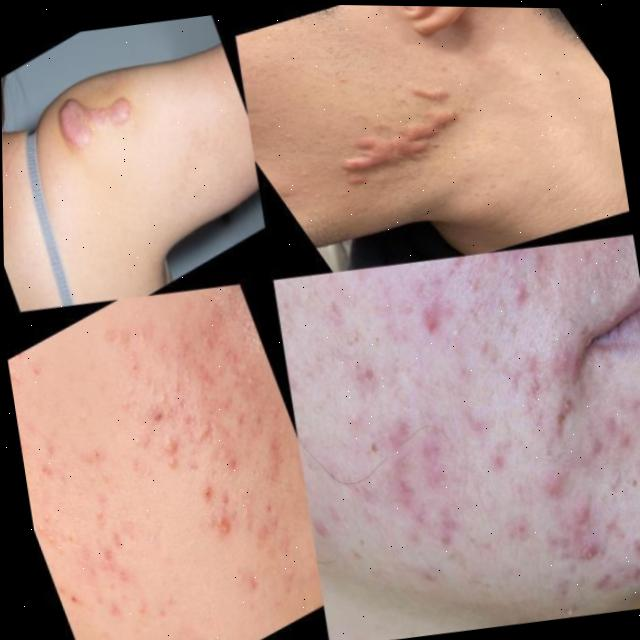Acne: (339, 272, 640, 600), (8, 333, 305, 640), (328, 96, 456, 183), (67, 94, 138, 139)
